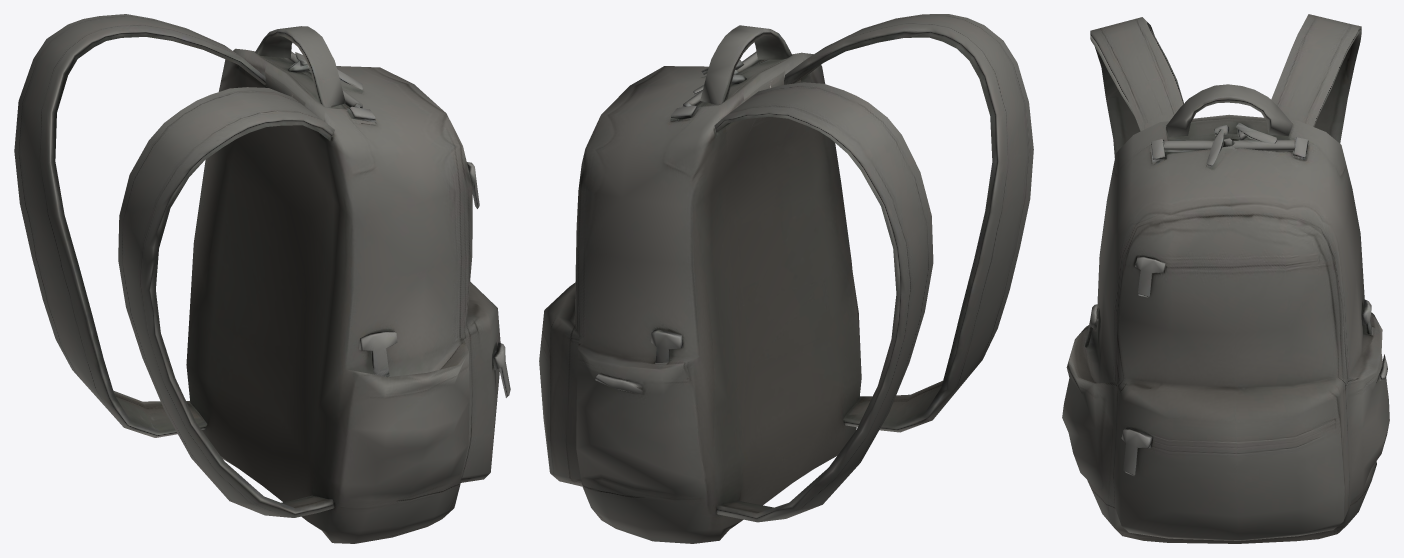
File: backpack.glb
3 renders of one model, left to right at view 1: azimuth 30°, elevation 25°; view 2: azimuth 150°, elevation 25°; view 3: azimuth 270°, elevation 25°, orthographic. The views are drawn at different scales.
Parts seen in each view (by area): view 1: tripo_node_4b0cc76f-043c-48de-a2fa-cdc2965326e4; view 2: tripo_node_4b0cc76f-043c-48de-a2fa-cdc2965326e4; view 3: tripo_node_4b0cc76f-043c-48de-a2fa-cdc2965326e4.
Boxes of the visible parts, bbox=[...] form: tripo_node_4b0cc76f-043c-48de-a2fa-cdc2965326e4: bbox=[14, 14, 510, 543]; tripo_node_4b0cc76f-043c-48de-a2fa-cdc2965326e4: bbox=[539, 14, 1033, 543]; tripo_node_4b0cc76f-043c-48de-a2fa-cdc2965326e4: bbox=[1062, 14, 1389, 543].
Size of the model in its own units: 0.873 by 0.998 by 0.7012.
1 material, 1 textured.
